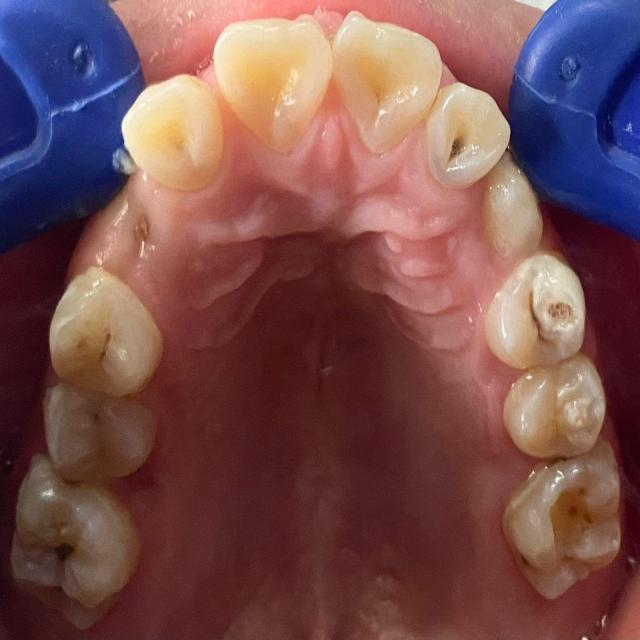caries: (8, 464, 139, 605), (508, 462, 622, 604), (49, 272, 163, 393), (487, 258, 585, 371), (43, 386, 155, 483), (512, 363, 603, 460), (427, 84, 510, 184)
